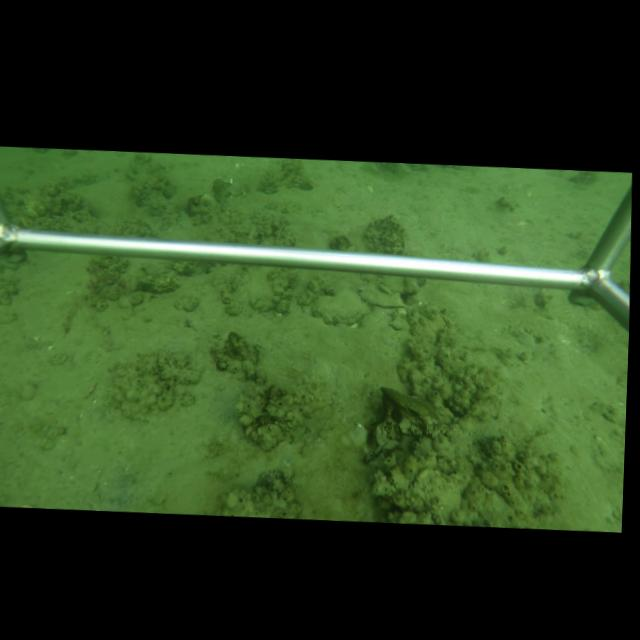Oyster-Closed: (309, 288, 371, 326), (359, 283, 405, 309), (131, 273, 182, 293), (368, 442, 389, 464)
Oyster-Indeterminate: (407, 465, 461, 518)
